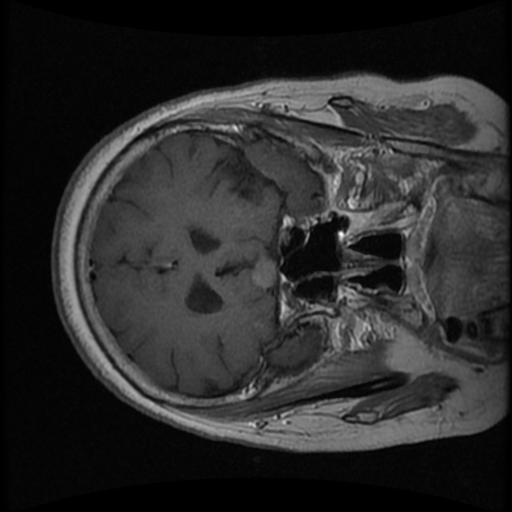pituitary tumour: (252, 260, 278, 289)
